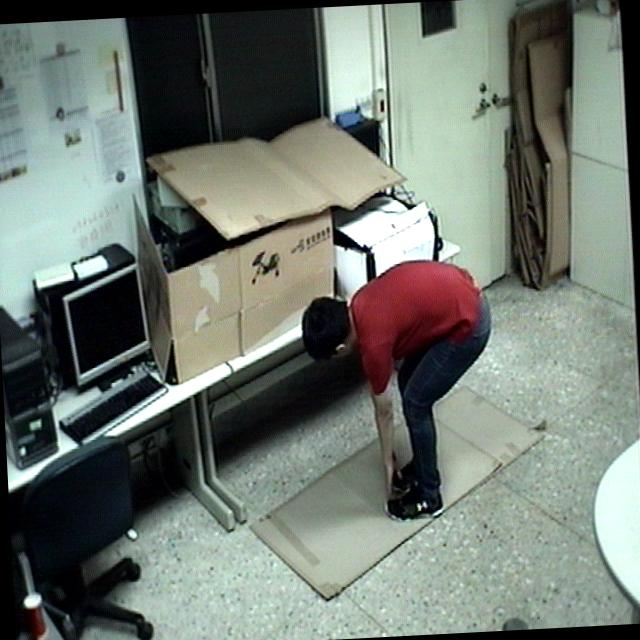bend: (291, 246, 510, 532)
